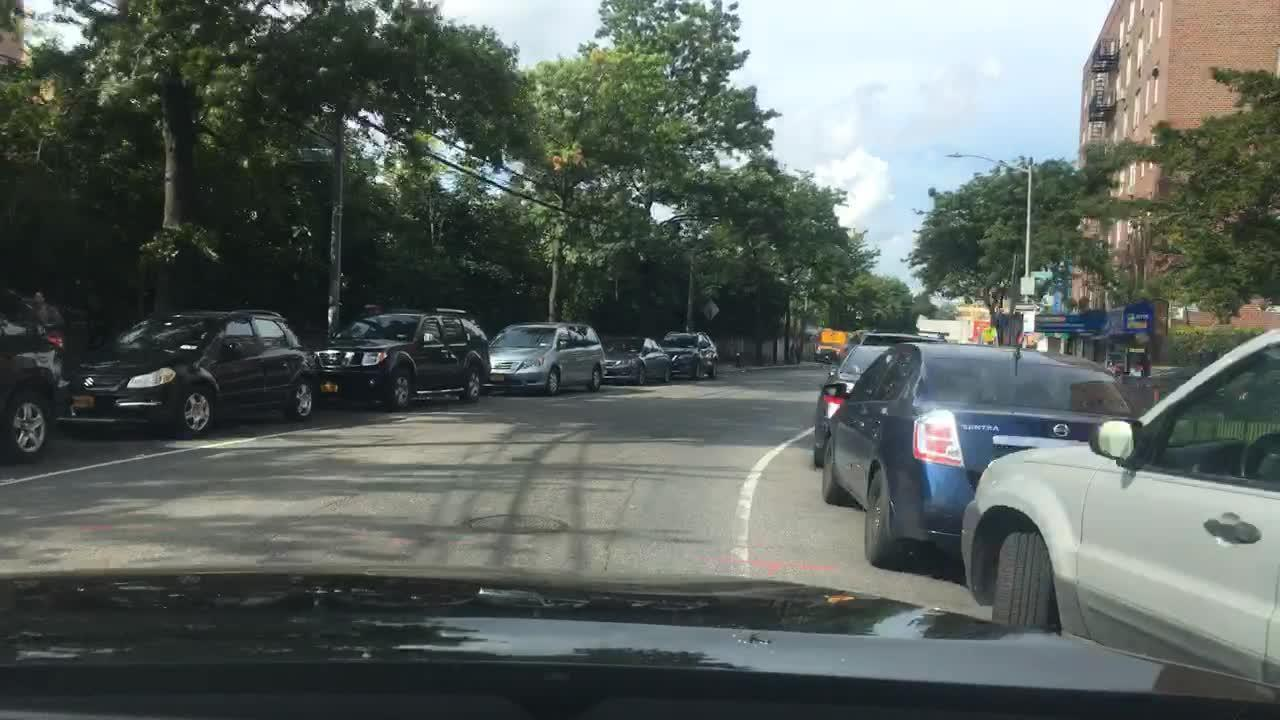Nissan: (1047, 416, 1081, 442), (323, 353, 341, 367)
suzuki: (79, 366, 101, 393)
